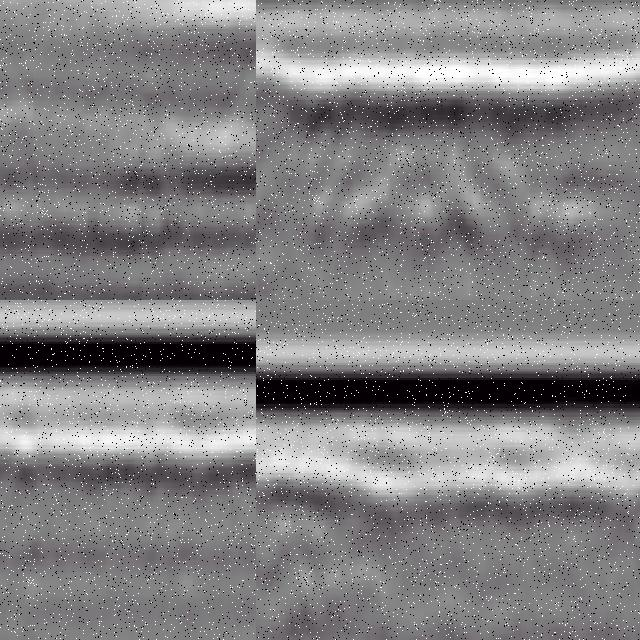crack: (257, 470, 269, 640)
loose: (257, 85, 597, 253), (257, 476, 381, 640)
